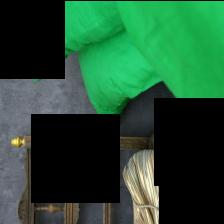green: (21, 0, 224, 153), (78, 29, 162, 130), (20, 0, 123, 81)
